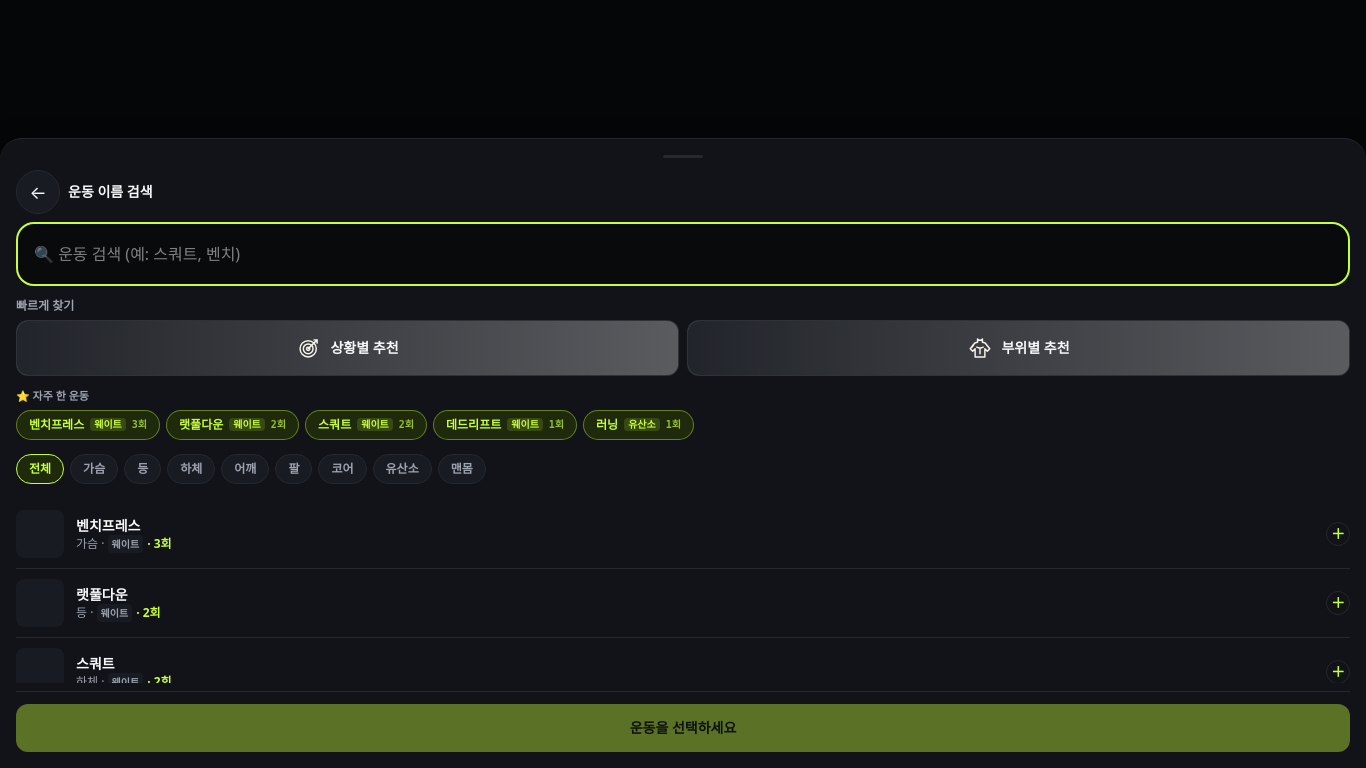
it: ExercisePicker — ⭐ 자주 한 운동 (2026-08-02) › 부위 필터를 고르면 칩 줄이 사라진다
What coordinates should you click on to do the following:
click the button "등"
I would click on:
 (143, 469)
Its box is 124,454 -> 161,484.
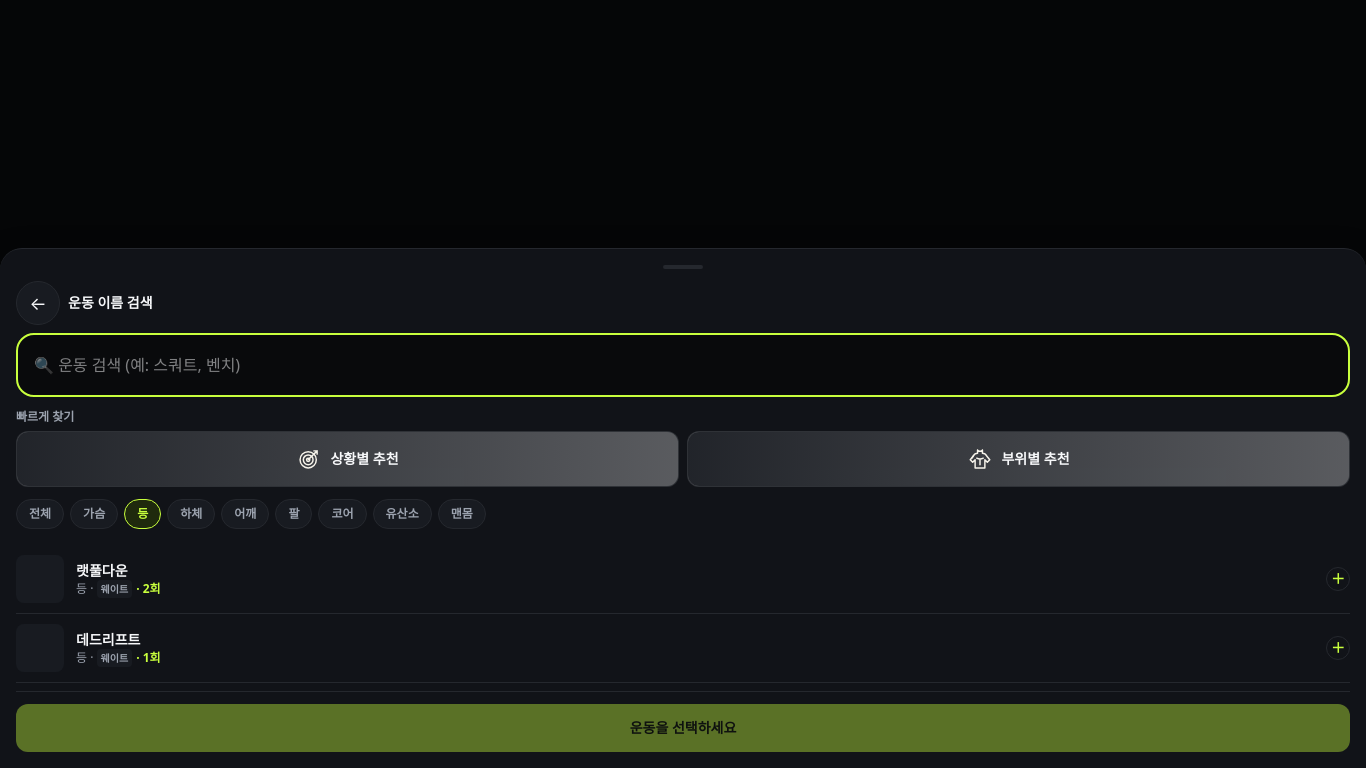
Expected: the text "⭐ 자주 한 운동" is gone
